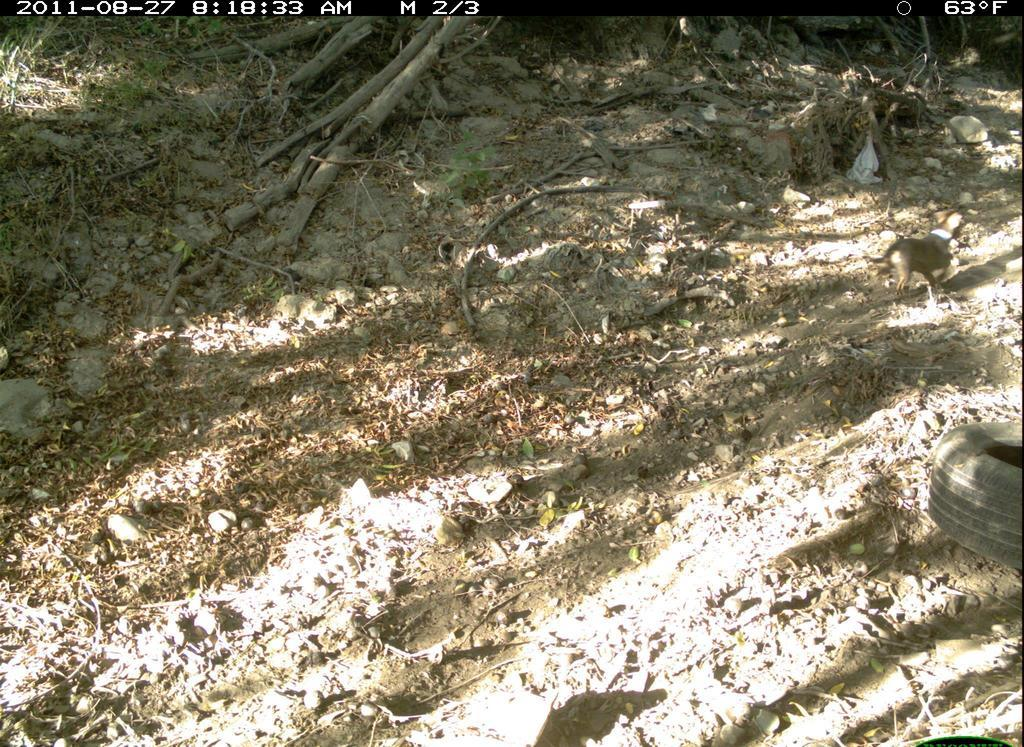dog: (854, 210, 982, 321)
